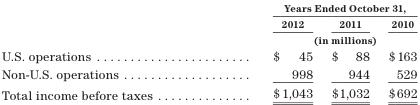table: (0, 1, 416, 102)
table column: (0, 1, 212, 102), (212, 1, 321, 102), (321, 1, 378, 102), (378, 1, 416, 102)
table column header: (0, 1, 416, 47)
table row: (0, 64, 416, 83), (0, 83, 416, 102), (0, 47, 416, 64), (0, 15, 416, 31), (0, 31, 416, 47), (0, 1, 416, 15)
table spanning cell: (212, 31, 416, 47), (212, 1, 416, 15)
